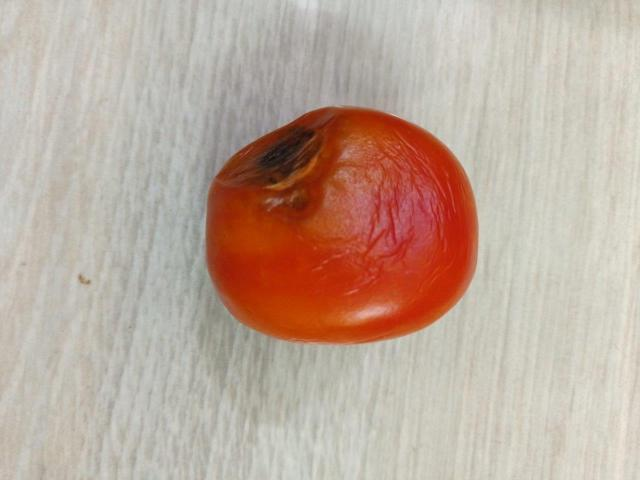defect: (204, 101, 481, 342)
